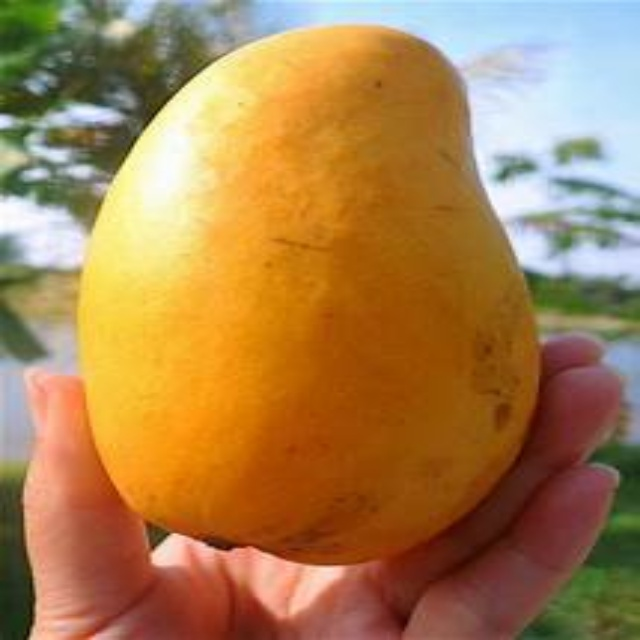mango: (83, 24, 535, 564)
